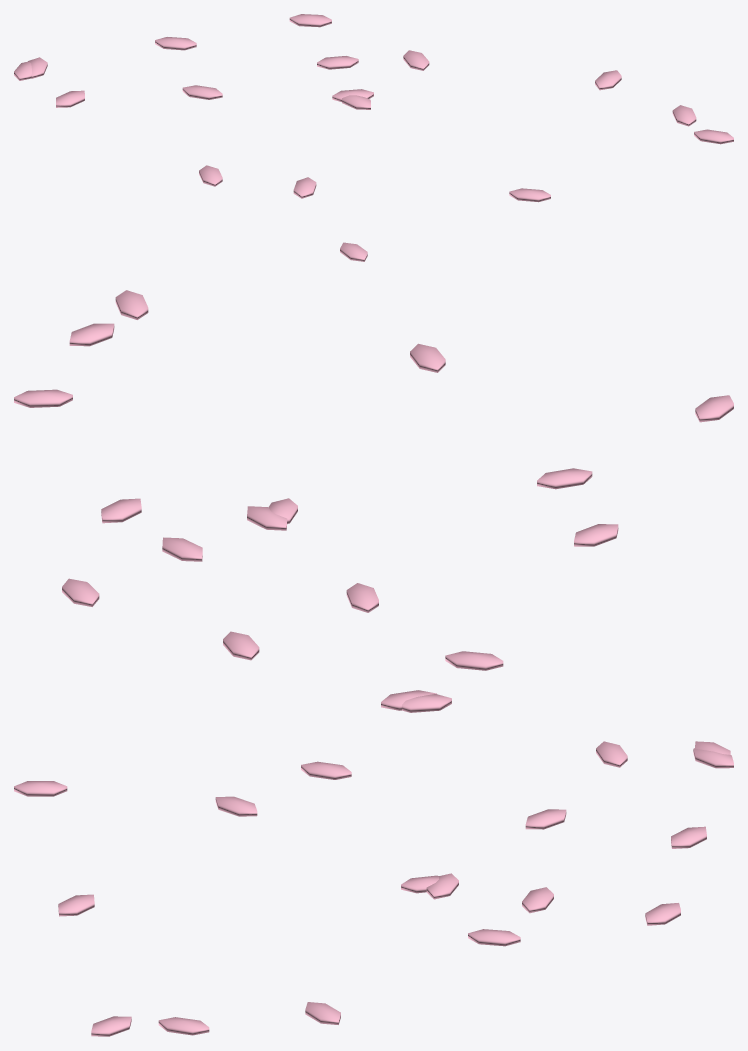
The model's file is layer_spring_cluster_low.glb.
The picture shows the model from 3 angles, top to bottom: view 1: azimuth 30°, elevation 25°; view 2: azimuth 150°, elevation 25°; view 3: azimuth 270°, elevation 25°; orthographic projection. The views are drawn at different scales.
Bounding box in the file's own units: 1.56 × 0.025 × 1.64.
